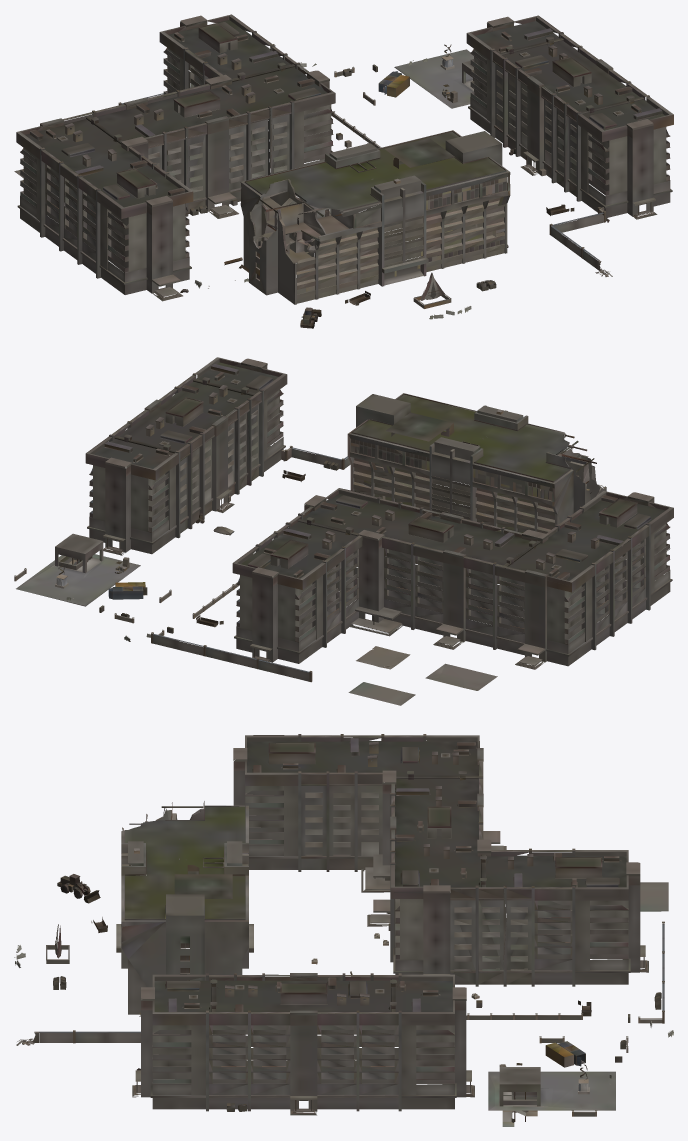
File: apartments_complex_1-map.glb
The picture shows the model from 3 angles, top to bottom: view 1: azimuth 30°, elevation 25°; view 2: azimuth 150°, elevation 25°; view 3: azimuth 270°, elevation 25°; orthographic projection. The views are drawn at different scales.
Parts seen in each view (by area): view 1: HLOD_apartment_complex_1; view 2: HLOD_apartment_complex_1; view 3: HLOD_apartment_complex_1.
Part boxes in pixels (x1=…): HLOD_apartment_complex_1: x1=14, y1=14, x2=673, y2=328; HLOD_apartment_complex_1: x1=14, y1=357, x2=673, y2=705; HLOD_apartment_complex_1: x1=14, y1=734, x2=673, y2=1126.
Bounding box in the file's own units: 174 × 36.6 × 170.
Materials: 1 (1 with a texture image).
